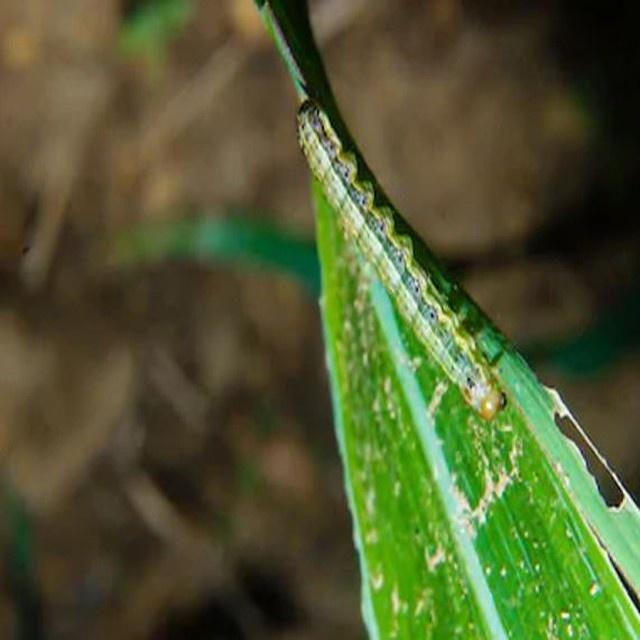Plaga: (294, 98, 516, 430)
